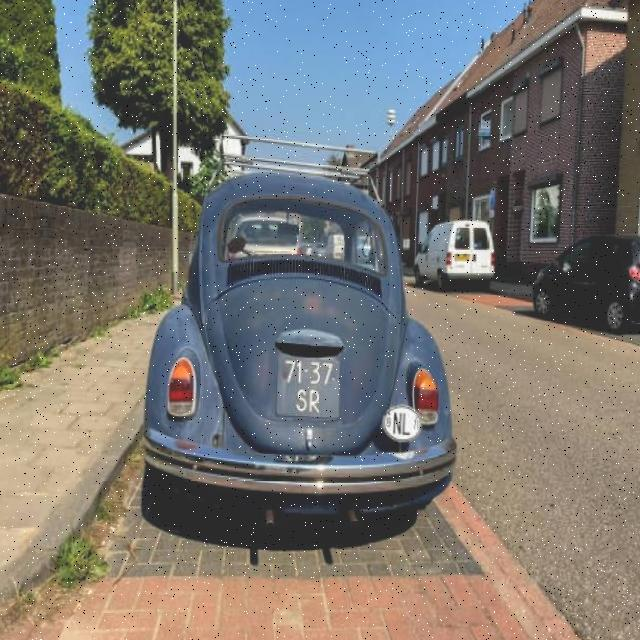car: (155, 158, 459, 521), (525, 230, 640, 333), (420, 218, 490, 290)
